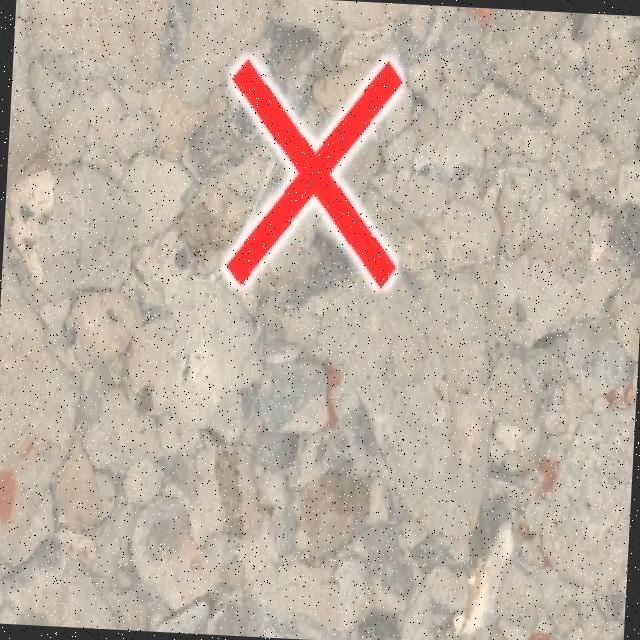x_marker: (221, 52, 405, 290)
